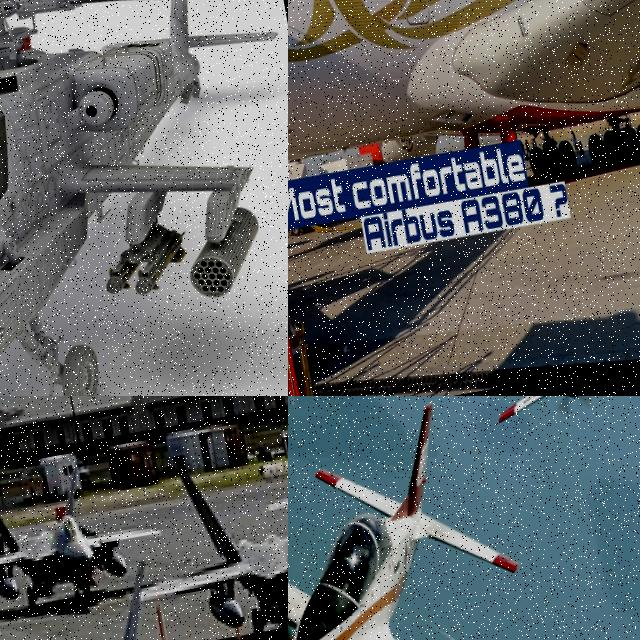A380: (288, 0, 640, 261)
Apache: (0, 0, 288, 396)
F22: (118, 396, 288, 640), (0, 439, 175, 622), (0, 544, 288, 640)
KT-1: (288, 396, 633, 640)
